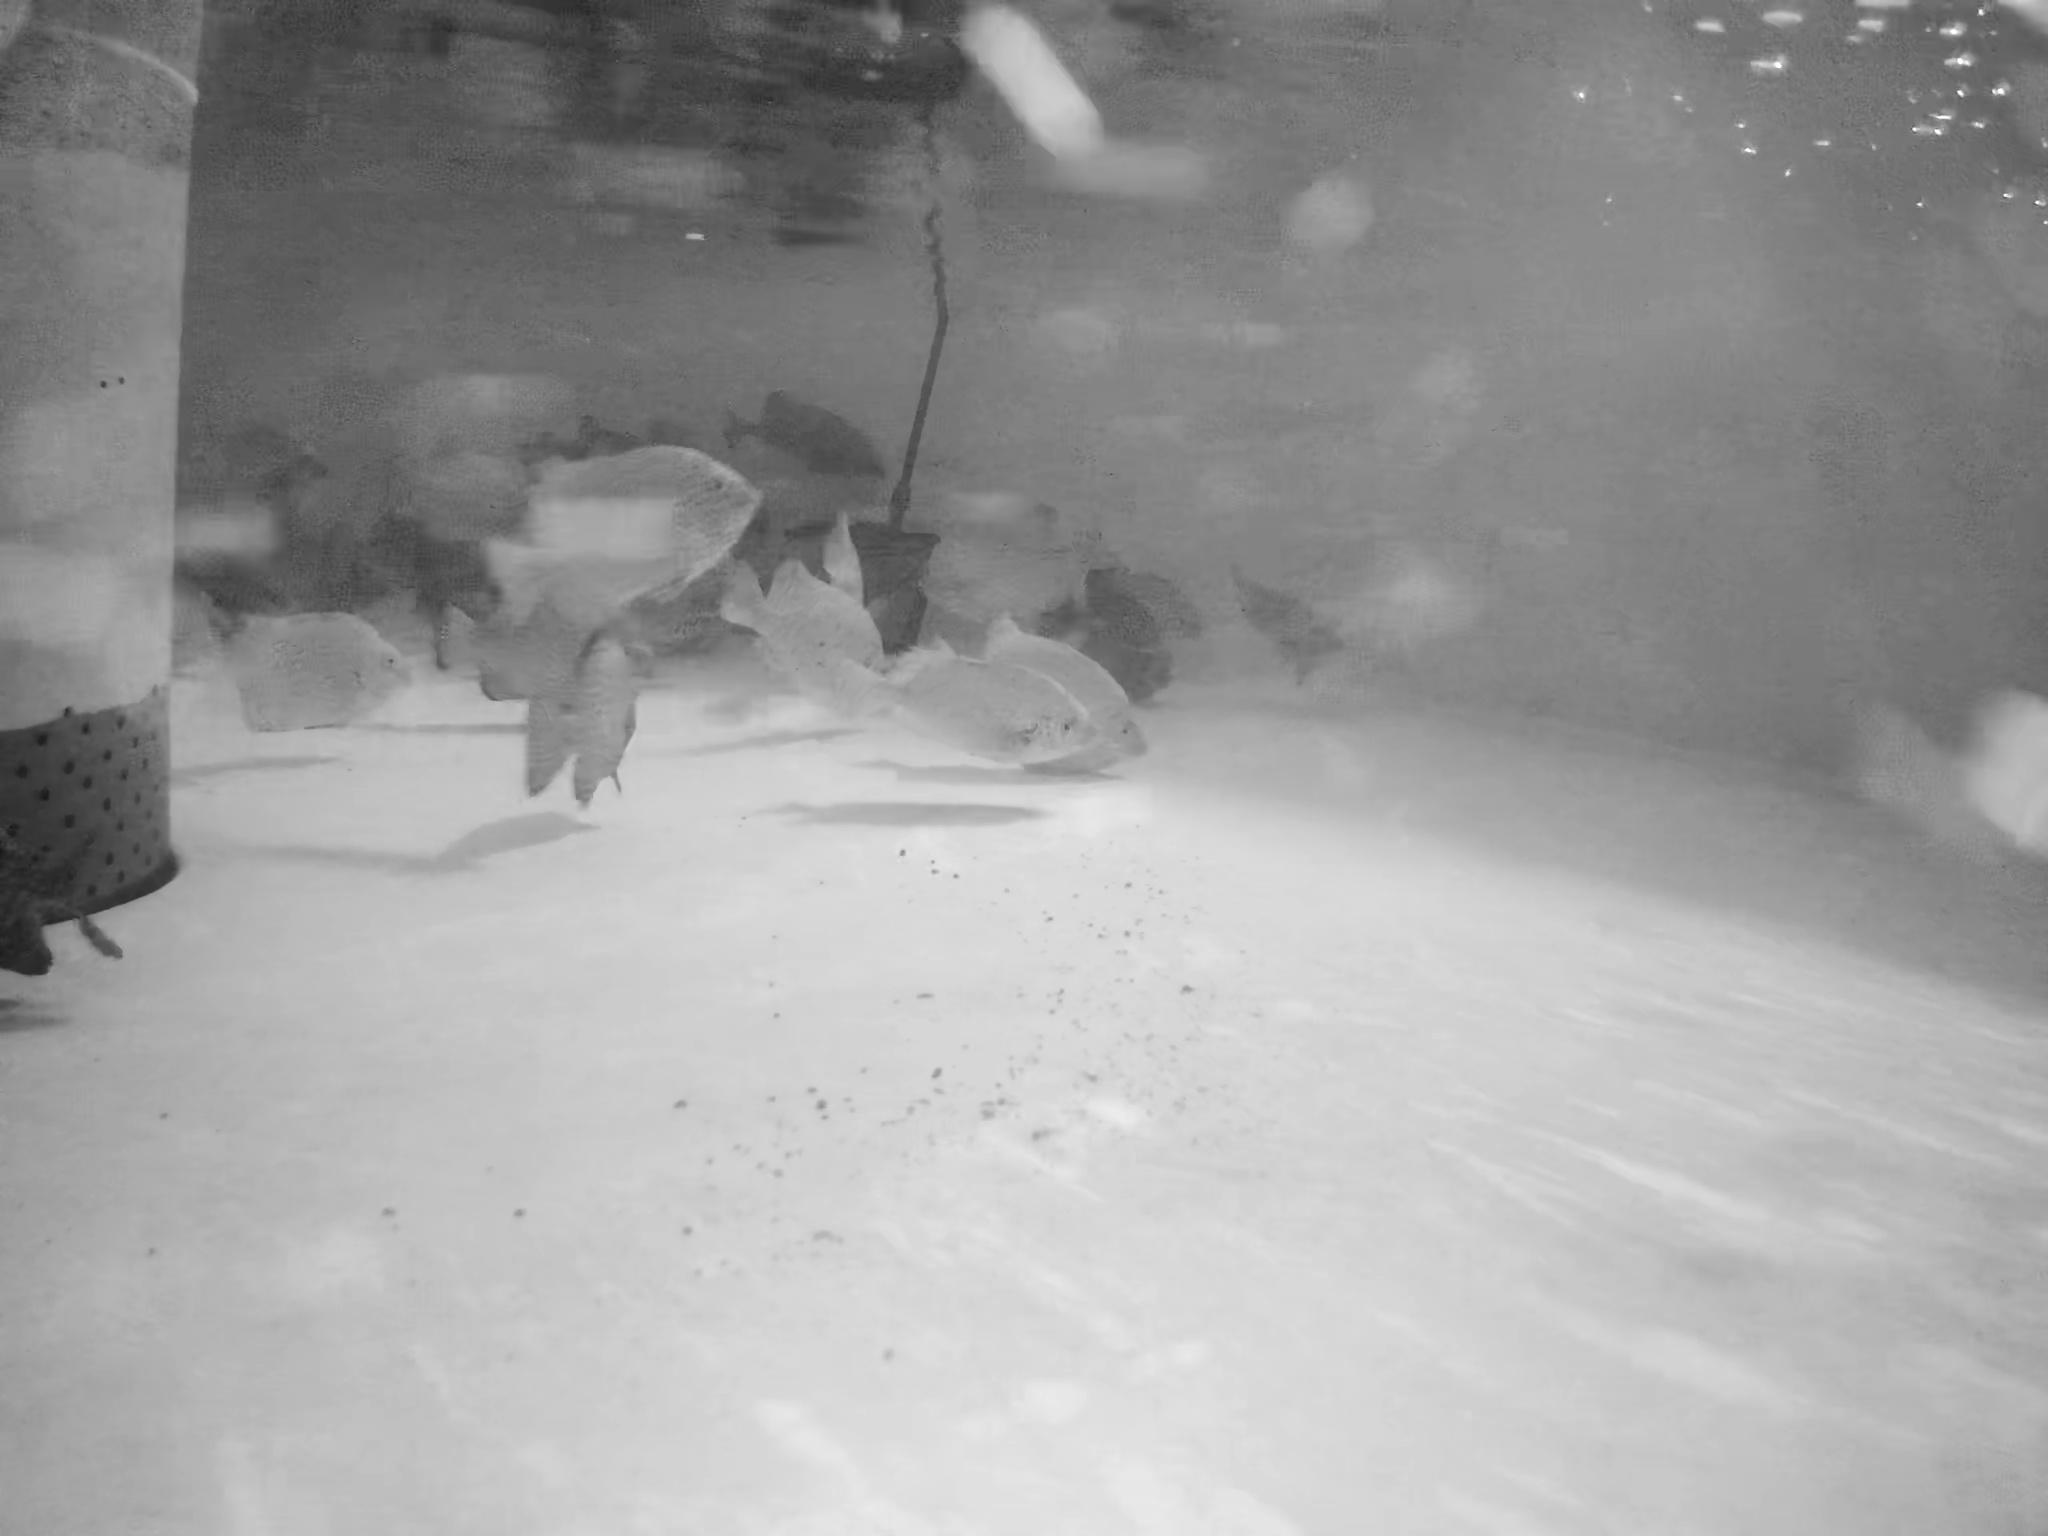fish: (481, 437, 766, 623), (808, 650, 1092, 773), (977, 616, 1148, 786), (722, 386, 895, 544), (219, 599, 414, 728), (731, 571, 901, 713), (508, 631, 639, 794), (1230, 545, 1345, 713), (1043, 573, 1163, 682), (1105, 557, 1206, 642)
